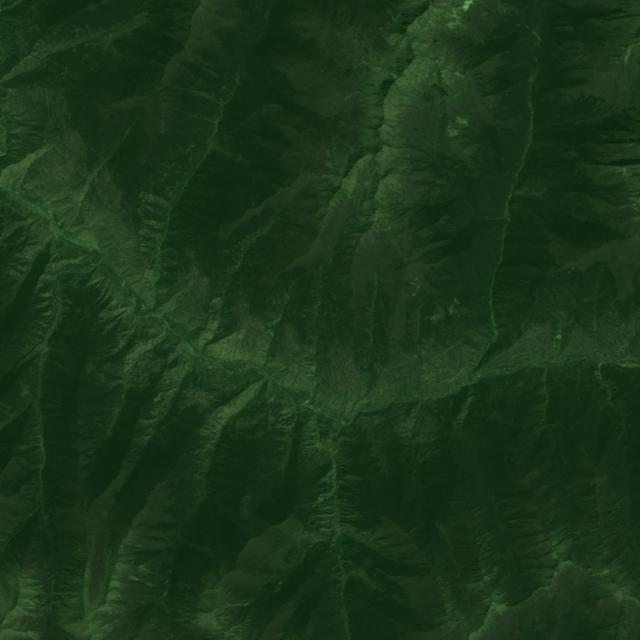landslides: (212, 143, 250, 164), (190, 90, 225, 108), (186, 112, 216, 124), (189, 144, 205, 154), (198, 128, 212, 138), (167, 186, 182, 194), (408, 370, 415, 386)
